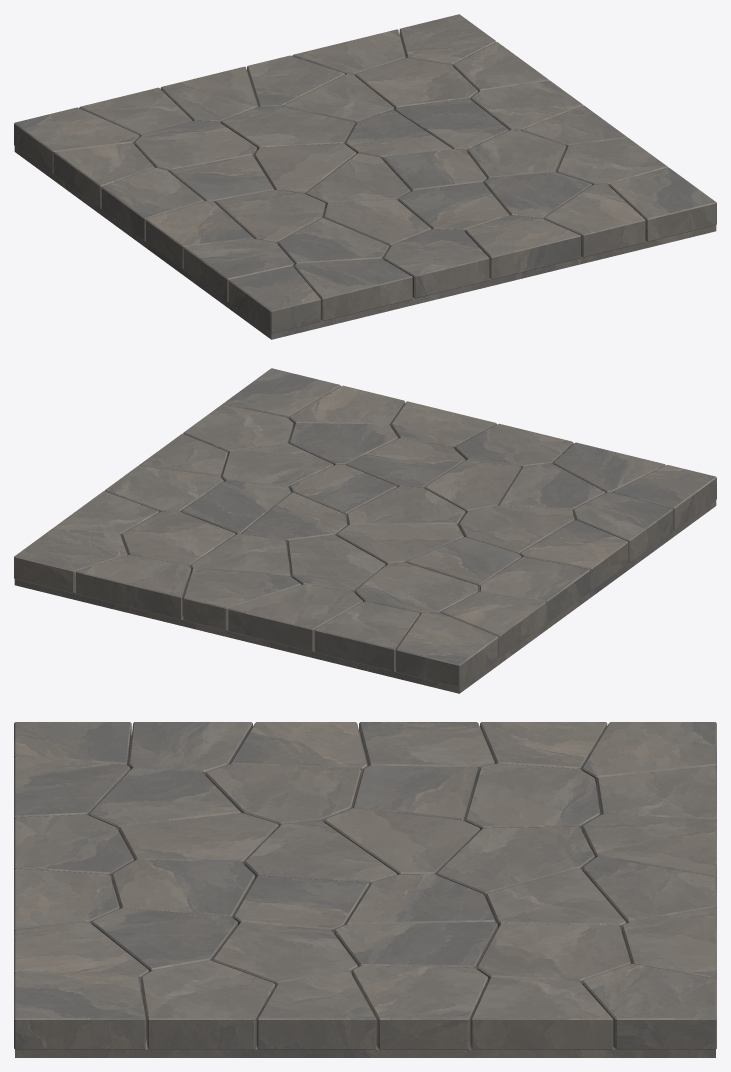
File: S04_FlagstoneFloor_4x0.25x4_UV1.fbx
3 views of the same model, one above another, from view 1: azimuth 30°, elevation 25°; view 2: azimuth 150°, elevation 25°; view 3: azimuth 270°, elevation 25° (orthographic). The views are drawn at different scales.
Visible parts, largest first — view 1: S04_Export_UV1; view 2: S04_Export_UV1; view 3: S04_Export_UV1.
Part boxes in pixels (bbox=[...]): S04_Export_UV1: bbox=[14, 14, 716, 339]; S04_Export_UV1: bbox=[14, 368, 716, 693]; S04_Export_UV1: bbox=[14, 722, 716, 1057].
Size of the model in its own units: 4 by 0.25 by 4.
